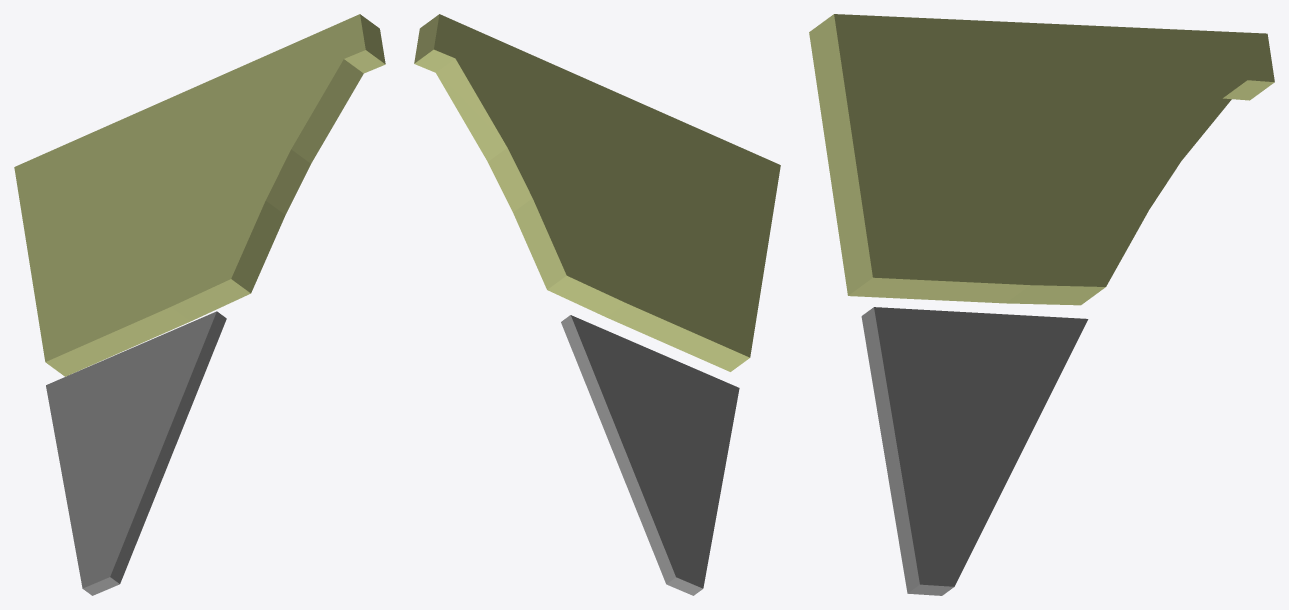
3 renders of one model, left to right at view 1: azimuth 30°, elevation 25°; view 2: azimuth 150°, elevation 25°; view 3: azimuth 330°, elevation 25°, orthographic. The views are drawn at different scales.
Visible parts, largest first — view 1: 0_2_2_0_0_0_2_2; view 2: 0_2_2_0_0_0_2_2; view 3: 0_2_2_0_0_0_2_2.
Part boxes in pixels (box(x1,y1,x2,y2)): 0_2_2_0_0_0_2_2: box(14, 14, 385, 595); 0_2_2_0_0_0_2_2: box(414, 14, 780, 595); 0_2_2_0_0_0_2_2: box(809, 14, 1274, 595).
Bounding box in the file's own units: 61.08 × 84.21 × 6.04.
